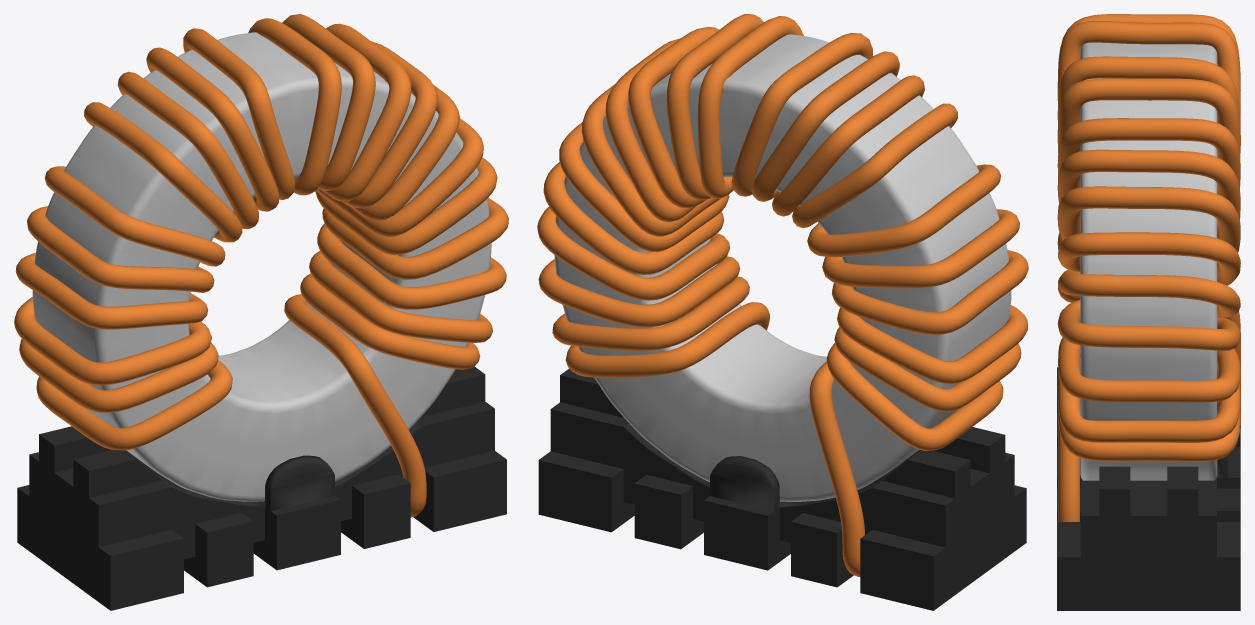
Rendered from Coil.fbx.
The picture shows the model from 3 angles, left to right: view 1: azimuth 30°, elevation 25°; view 2: azimuth 150°, elevation 25°; view 3: azimuth 270°, elevation 25°; orthographic projection.
Visible parts, largest first — view 1: Coil; view 2: Coil; view 3: Coil.
Part boxes in pixels (bbox=[...]): Coil: bbox=[14, 14, 508, 610]; Coil: bbox=[537, 14, 1028, 610]; Coil: bbox=[1057, 14, 1240, 610].
Bounding box in the file's own units: 275 × 297 × 104.
